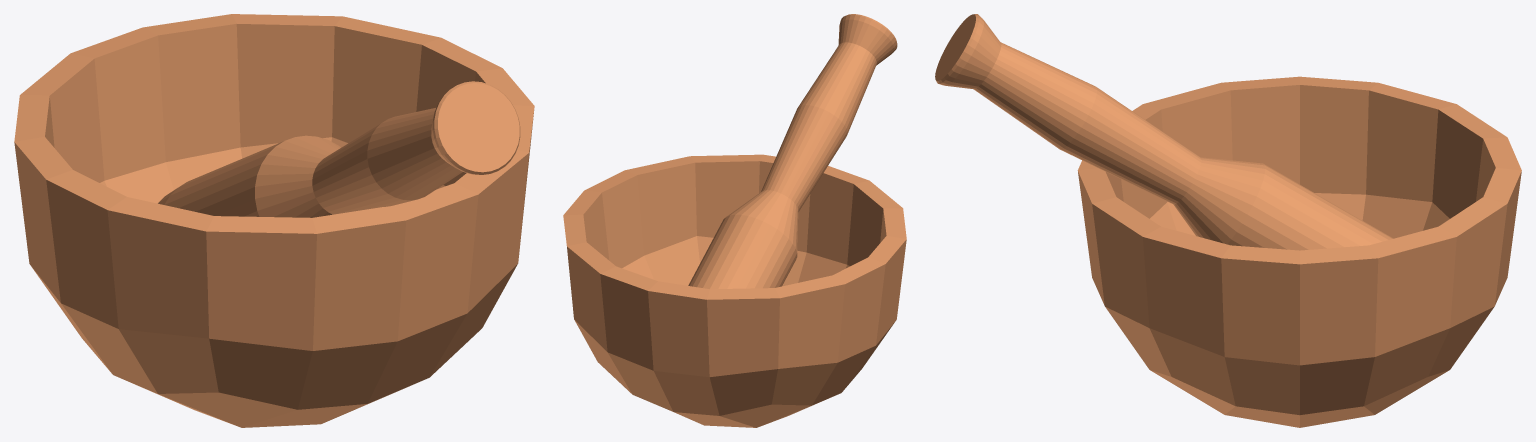
Rendered from mortero.fbx.
3 renders of one model, left to right at view 1: azimuth 30°, elevation 25°; view 2: azimuth 150°, elevation 25°; view 3: azimuth 270°, elevation 25°, orthographic. The views are drawn at different scales.
Visible parts, largest first — view 1: Roundcube, Cylinder; view 2: Roundcube, Cylinder; view 3: Roundcube, Cylinder.
Part boxes in pixels (x1,y1,x2,y2): Roundcube: (14,14,534,427); Cylinder: (158,81,520,217); Roundcube: (563,154,906,427); Cylinder: (688,14,897,289); Roundcube: (1077,76,1521,427); Cylinder: (935,14,1393,250).
Bounding box in the file's own units: 220 × 213 × 291.
